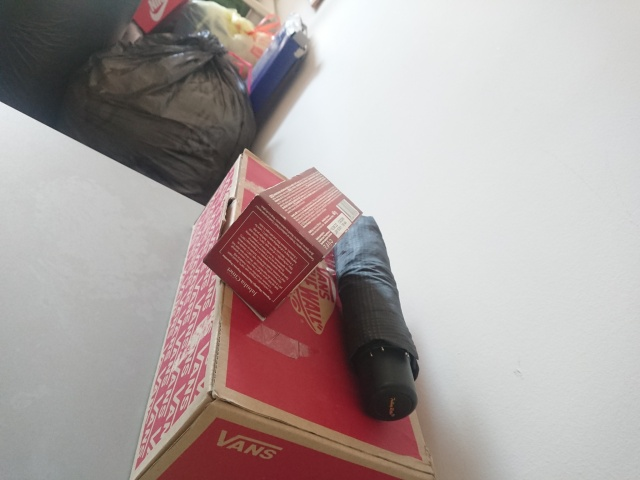Franck Apple Cinnamon Tea 60g: (200, 164, 364, 322)
